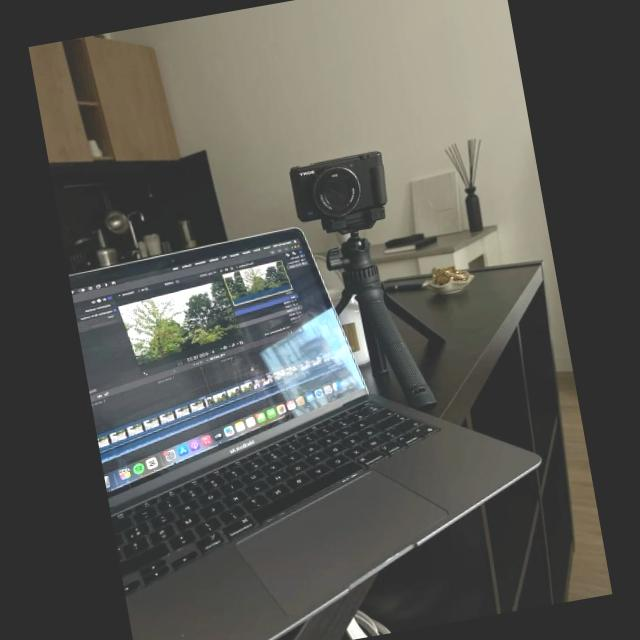laptop: (67, 209, 487, 636)
